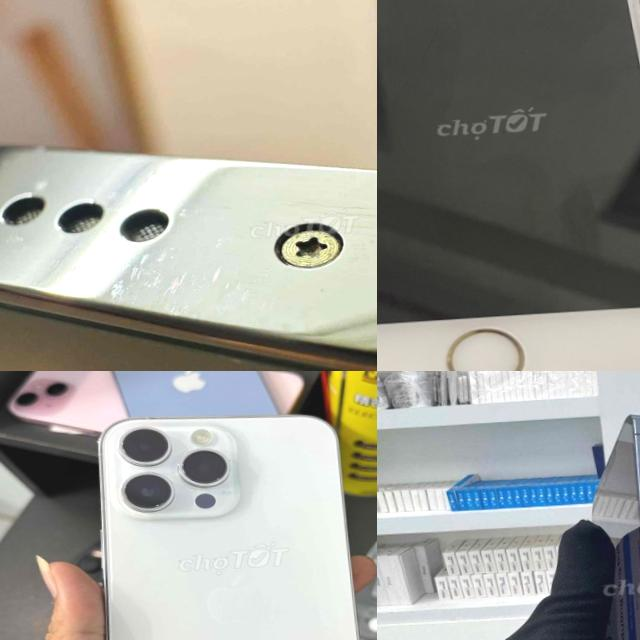gen_12_13: (0, 106, 377, 371), (565, 406, 640, 640)
gen_14: (87, 405, 377, 640)
gen_6: (377, 0, 640, 371)
scratch: (0, 131, 362, 367)
